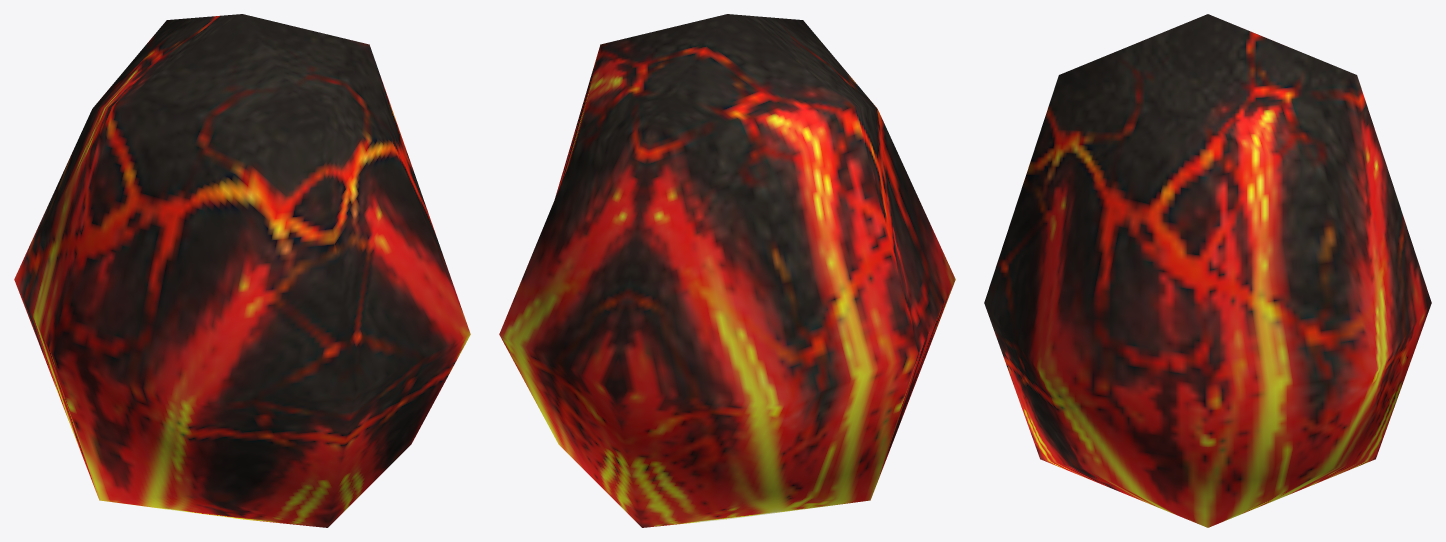
File: Zun_meteorite.FBX
3 renders of one model, left to right at view 1: azimuth 30°, elevation 25°; view 2: azimuth 150°, elevation 25°; view 3: azimuth 270°, elevation 25°, orthographic.
Visible parts, largest first — view 1: Box001; view 2: Box001; view 3: Box001.
Boxes of the visible parts, x1,y1,x2,y2 form: Box001: [14, 14, 470, 527]; Box001: [499, 14, 955, 527]; Box001: [984, 14, 1431, 527].
Bounding box in the file's own units: 40.26 × 50.97 × 41.54.
